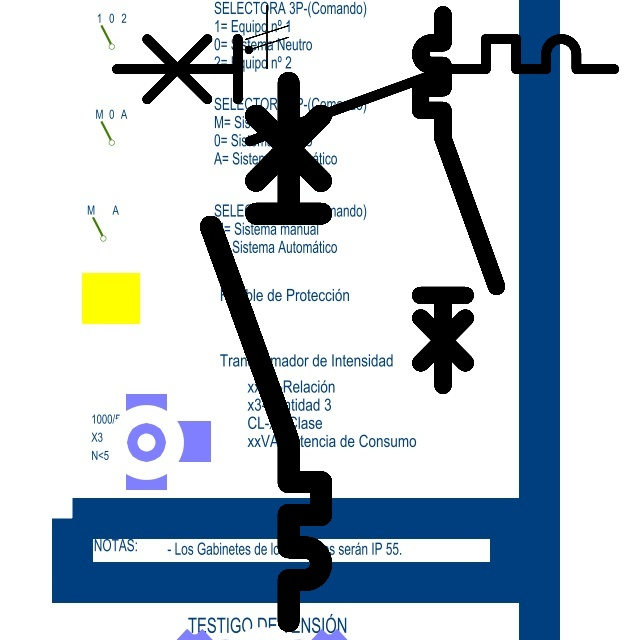interruptor_termomagnetico: (197, 68, 335, 634), (104, 26, 627, 154), (411, 5, 506, 395)
